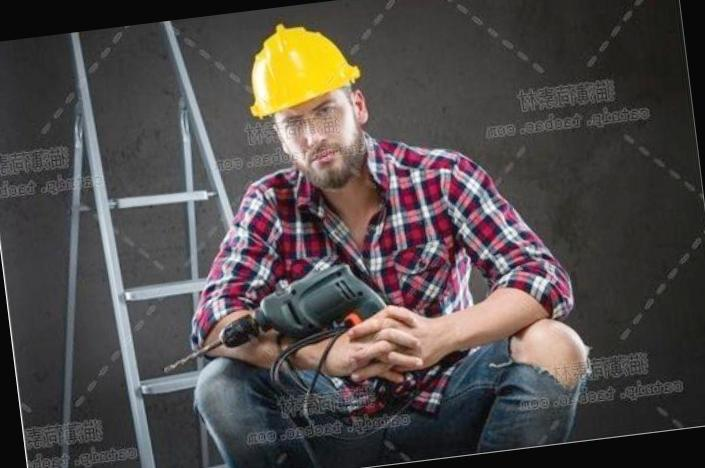helmet: (231, 13, 366, 132)
no_vest: (210, 142, 493, 392)
person: (182, 0, 513, 468)
